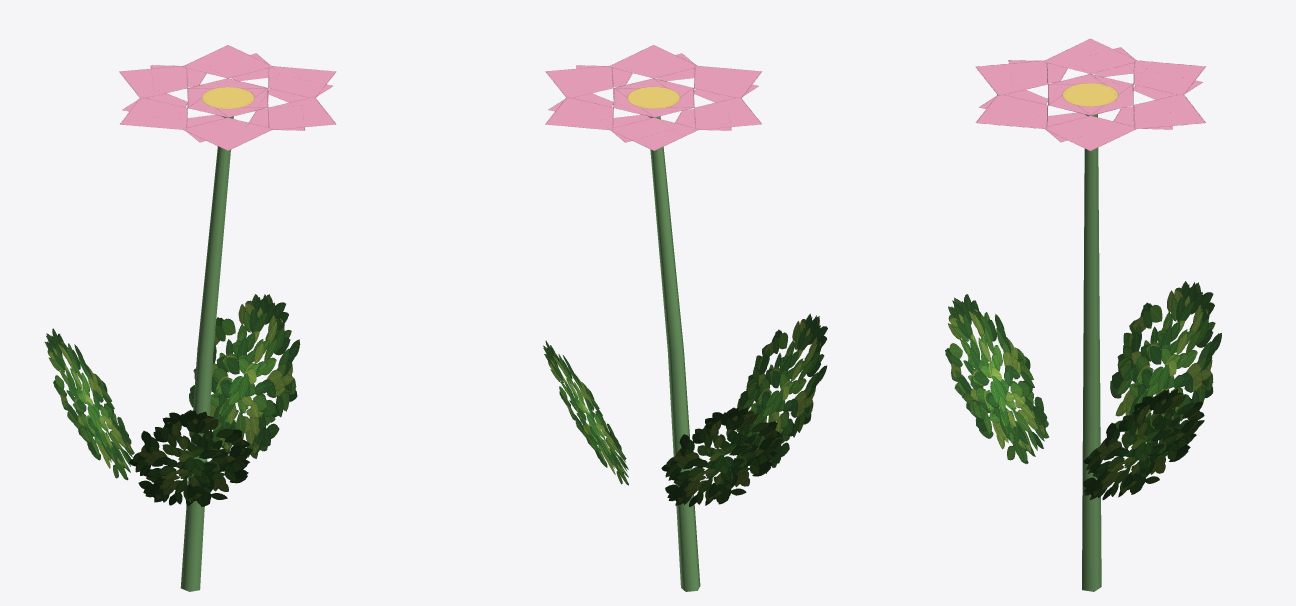
File: flower_pink.glb
3 views of the same model, side by side, from view 1: azimuth 30°, elevation 25°; view 2: azimuth 150°, elevation 25°; view 3: azimuth 270°, elevation 25° (orthographic). The views are drawn at different scales.
Parts seen in each view (by area): view 1: flower_pink; view 2: flower_pink; view 3: flower_pink.
Boxes of the visible parts, left/top/right/bottom form: flower_pink: left=45, top=45, right=336, bottom=591; flower_pink: left=543, top=45, right=827, bottom=591; flower_pink: left=945, top=38, right=1221, bottom=591.
Size of the model in its own units: 0.409 by 0.55 by 0.3727.
3 materials, 2 textured.
